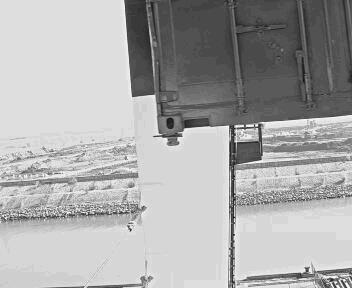twist_lock_1: (162, 130, 188, 149)
